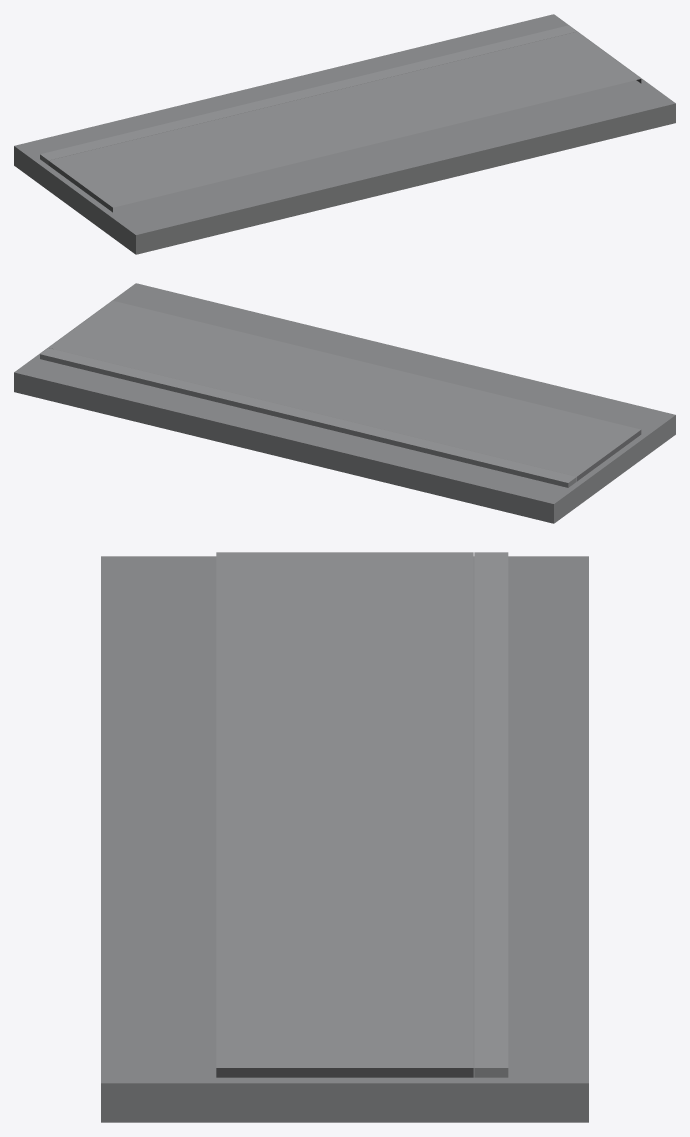
The picture shows the model from 3 angles, top to bottom: view 1: azimuth 30°, elevation 25°; view 2: azimuth 150°, elevation 25°; view 3: azimuth 270°, elevation 25°; orthographic projection. The views are drawn at different scales.
Size of the model in its own units: 0.92 by 0.04 by 0.36.
